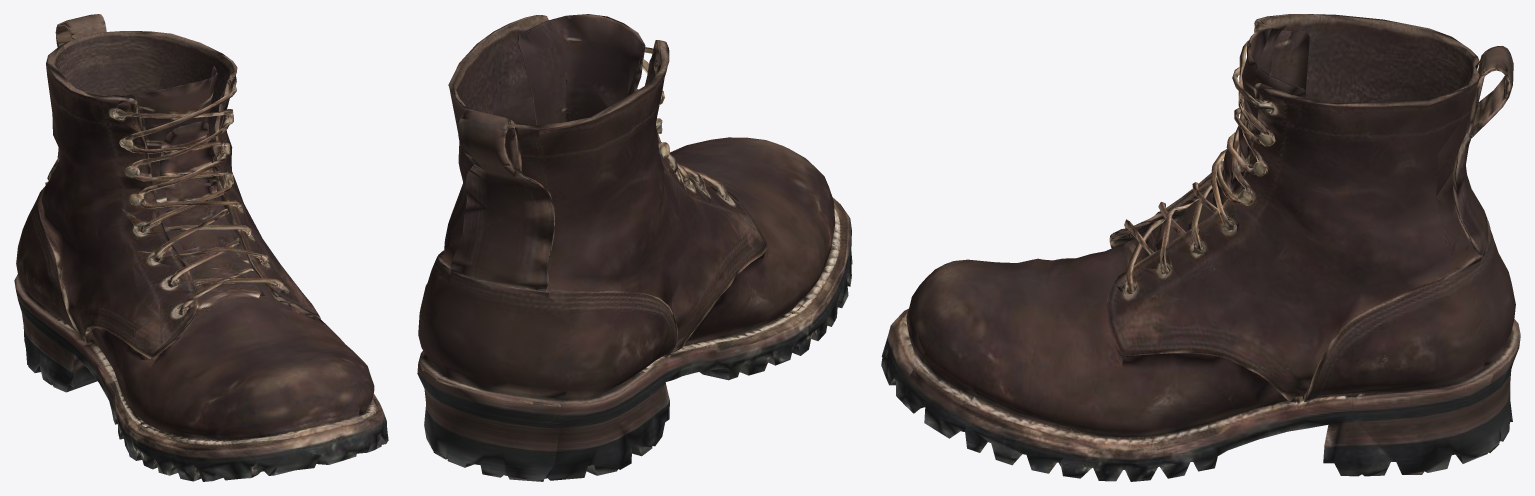
Rendered from loggers-left.glb.
3 views of the same model, side by side, from view 1: azimuth 30°, elevation 25°; view 2: azimuth 150°, elevation 25°; view 3: azimuth 270°, elevation 25° (orthographic). The views are drawn at different scales.
Visible parts, largest first — view 1: loggers; view 2: loggers; view 3: loggers.
Part boxes in pixels (bbox=[...]): loggers: bbox=[14, 14, 388, 481]; loggers: bbox=[417, 14, 852, 481]; loggers: bbox=[881, 14, 1520, 481].
Size of the model in its own units: 0.22 by 0.2902 by 0.4401.
Materials: 1 (1 with a texture image).
